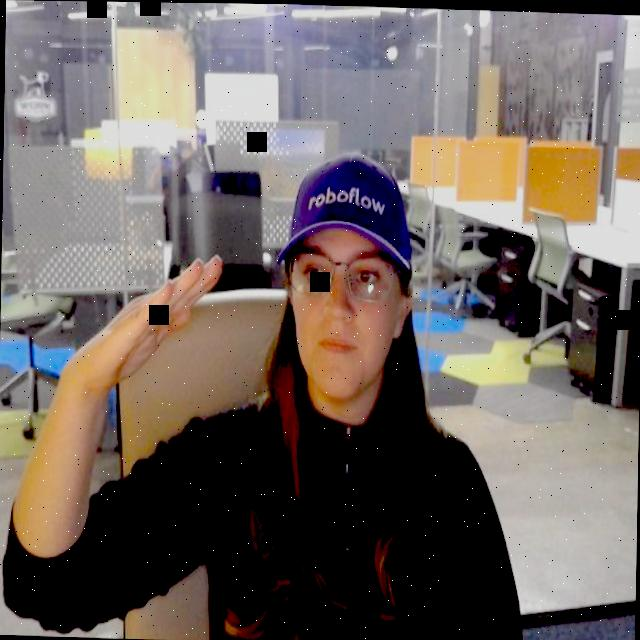Paper: (48, 233, 290, 431)
